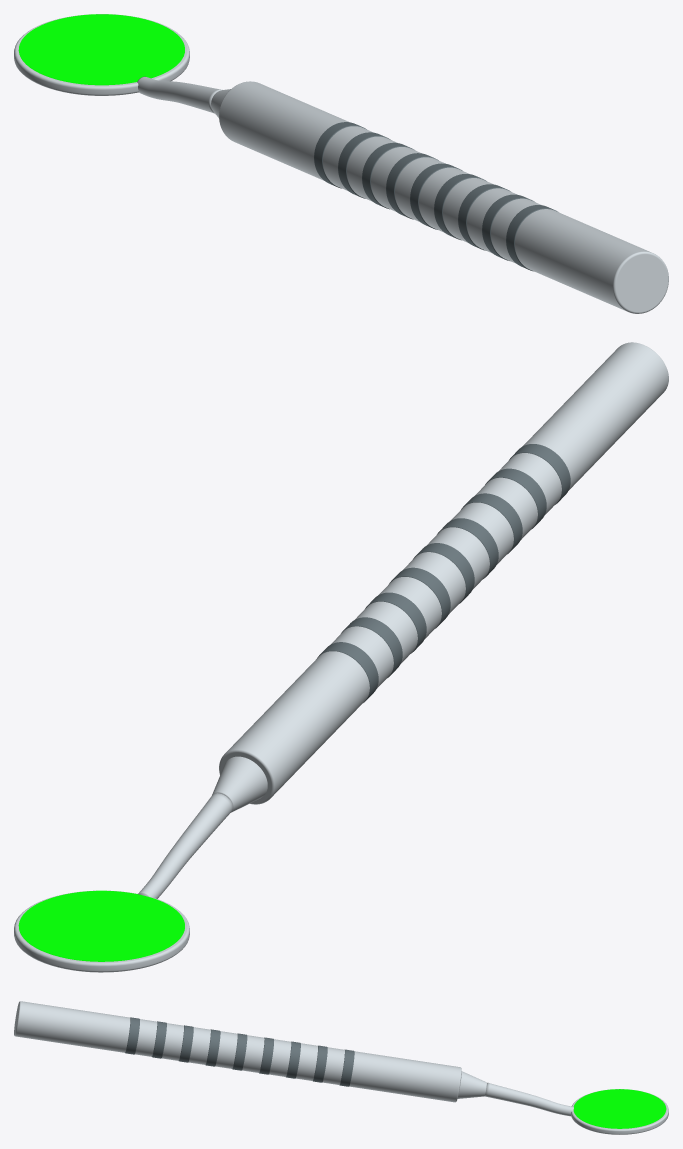
The model's file is mirror.glb.
3 views of the same model, one above another, from view 1: azimuth 30°, elevation 25°; view 2: azimuth 150°, elevation 25°; view 3: azimuth 270°, elevation 25° (orthographic). The views are drawn at different scales.
Visible parts, largest first — view 1: Cone.003, Cone.001, Cone, Mirror shank, Cone.006, Cone.007, Cone.010, Cone.009, Cone.011, Cone.005, Cone.004, Cone.008 (+1 smaller); view 2: Cone.003, Cone.001, Mirror shank, Cone, Cone.002; view 3: Cone.003, Cone.001, Mirror shank, Cone, Cone.002, Cone.008, Cone.009, Cone.004, Cone.011, Cone.005, Cone.012, Cone.006 (+2 smaller).
Part boxes in pixels (<box>): Cone.003: <box>219,81,668,313</box>; Cone.001: <box>18,14,184,85</box>; Cone: <box>14,14,189,95</box>; Mirror shank: <box>137,76,222,113</box>; Cone.006: <box>362,142,414,209</box>; Cone.007: <box>386,153,438,219</box>; Cone.010: <box>458,184,510,250</box>; Cone.009: <box>434,174,486,240</box>; Cone.011: <box>482,194,534,260</box>; Cone.005: <box>338,132,390,198</box>; Cone.004: <box>314,122,366,188</box>; Cone.008: <box>410,163,462,229</box>; Cone.003: <box>219,342,668,804</box>; Cone.001: <box>18,890,184,961</box>; Mirror shank: <box>138,793,232,898</box>; Cone: <box>14,890,189,972</box>; Cone.002: <box>212,756,267,812</box>; Cone.003: <box>14,1001,461,1102</box>; Cone.001: <box>573,1089,666,1128</box>; Mirror shank: <box>484,1082,573,1116</box>; Cone: <box>571,1089,668,1134</box>; Cone.002: <box>457,1071,486,1098</box>; Cone.008: <box>232,1033,247,1070</box>; Cone.009: <box>205,1029,220,1066</box>; Cone.004: <box>339,1049,354,1086</box>; Cone.011: <box>152,1021,166,1058</box>; Cone.005: <box>313,1045,327,1082</box>; Cone.012: <box>125,1017,139,1054</box>; Cone.006: <box>286,1041,300,1078</box>.
Size of the model in its own units: 22 by 27.97 by 147.
